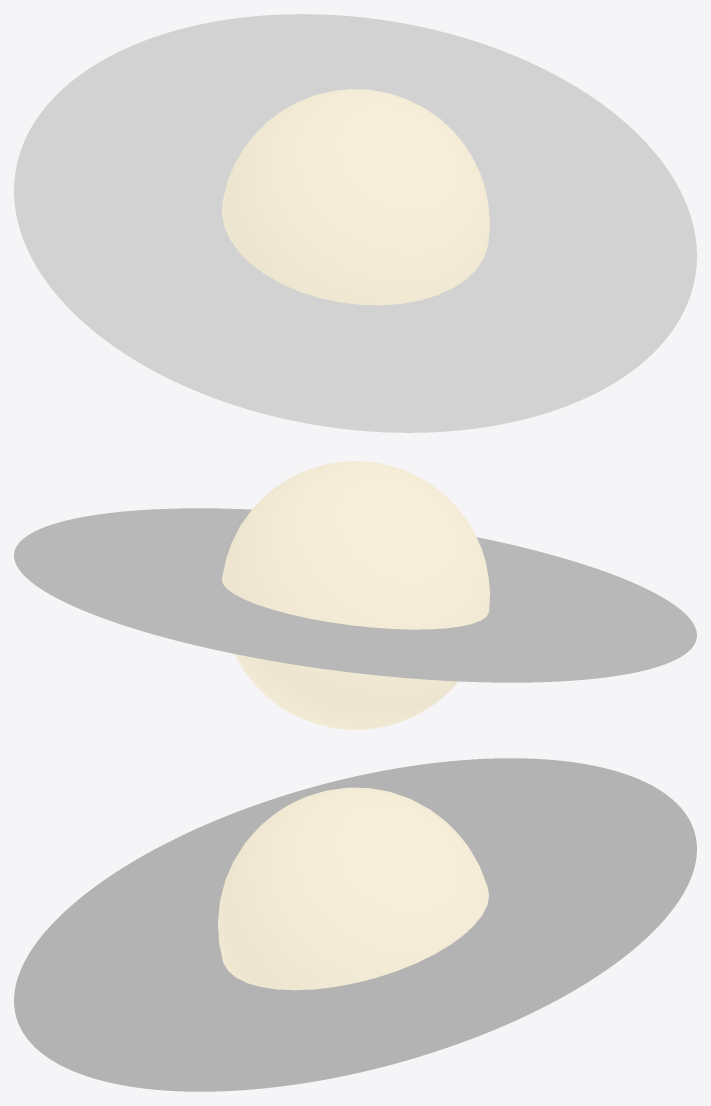
The model's file is ENV_Planet_Ringed_01.glb.
3 renders of one model, top to bottom at view 1: azimuth 30°, elevation 25°; view 2: azimuth 150°, elevation 25°; view 3: azimuth 270°, elevation 25°, orthographic. The views are drawn at different scales.
Parts seen in each view (by area): view 1: ENV_Planet_Ringed_01_Ring_Band_04, ENV_Planet_Ringed_01_Ring_Band_03, ENV_Planet_Ringed_01_Ring_Band_02, ENV_Planet_Ringed_01_Atmosphere, ENV_Planet_Ringed_01_Ring_Band_01; view 2: ENV_Planet_Ringed_01_Atmosphere, ENV_Planet_Ringed_01_Ring_Band_04, ENV_Planet_Ringed_01_Ring_Band_03, ENV_Planet_Ringed_01_Ring_Band_02, ENV_Planet_Ringed_01_Ring_Band_01; view 3: ENV_Planet_Ringed_01_Ring_Band_04, ENV_Planet_Ringed_01_Atmosphere, ENV_Planet_Ringed_01_Ring_Band_03, ENV_Planet_Ringed_01_Ring_Band_02, ENV_Planet_Ringed_01_Ring_Band_01.
Part boxes in pixels (left/top/right/bottom): ENV_Planet_Ringed_01_Ring_Band_04: left=14, top=14, right=696, bottom=432; ENV_Planet_Ringed_01_Ring_Band_03: left=70, top=48, right=640, bottom=398; ENV_Planet_Ringed_01_Ring_Band_02: left=98, top=66, right=609, bottom=380; ENV_Planet_Ringed_01_Atmosphere: left=222, top=89, right=489, bottom=305; ENV_Planet_Ringed_01_Ring_Band_01: left=153, top=100, right=557, bottom=347; ENV_Planet_Ringed_01_Atmosphere: left=222, top=461, right=489, bottom=729; ENV_Planet_Ringed_01_Ring_Band_04: left=14, top=508, right=696, bottom=682; ENV_Planet_Ringed_01_Ring_Band_03: left=70, top=522, right=640, bottom=668; ENV_Planet_Ringed_01_Ring_Band_02: left=101, top=530, right=606, bottom=660; ENV_Planet_Ringed_01_Ring_Band_01: left=153, top=545, right=556, bottom=646; ENV_Planet_Ringed_01_Ring_Band_04: left=14, top=758, right=696, bottom=1091; ENV_Planet_Ringed_01_Atmosphere: left=218, top=787, right=488, bottom=990; ENV_Planet_Ringed_01_Ring_Band_03: left=70, top=785, right=640, bottom=1064; ENV_Planet_Ringed_01_Ring_Band_02: left=98, top=799, right=610, bottom=1049; ENV_Planet_Ringed_01_Ring_Band_01: left=153, top=826, right=557, bottom=1023.
Size of what is drawn, in the model's own units: 4164 by 1625 by 4045.
